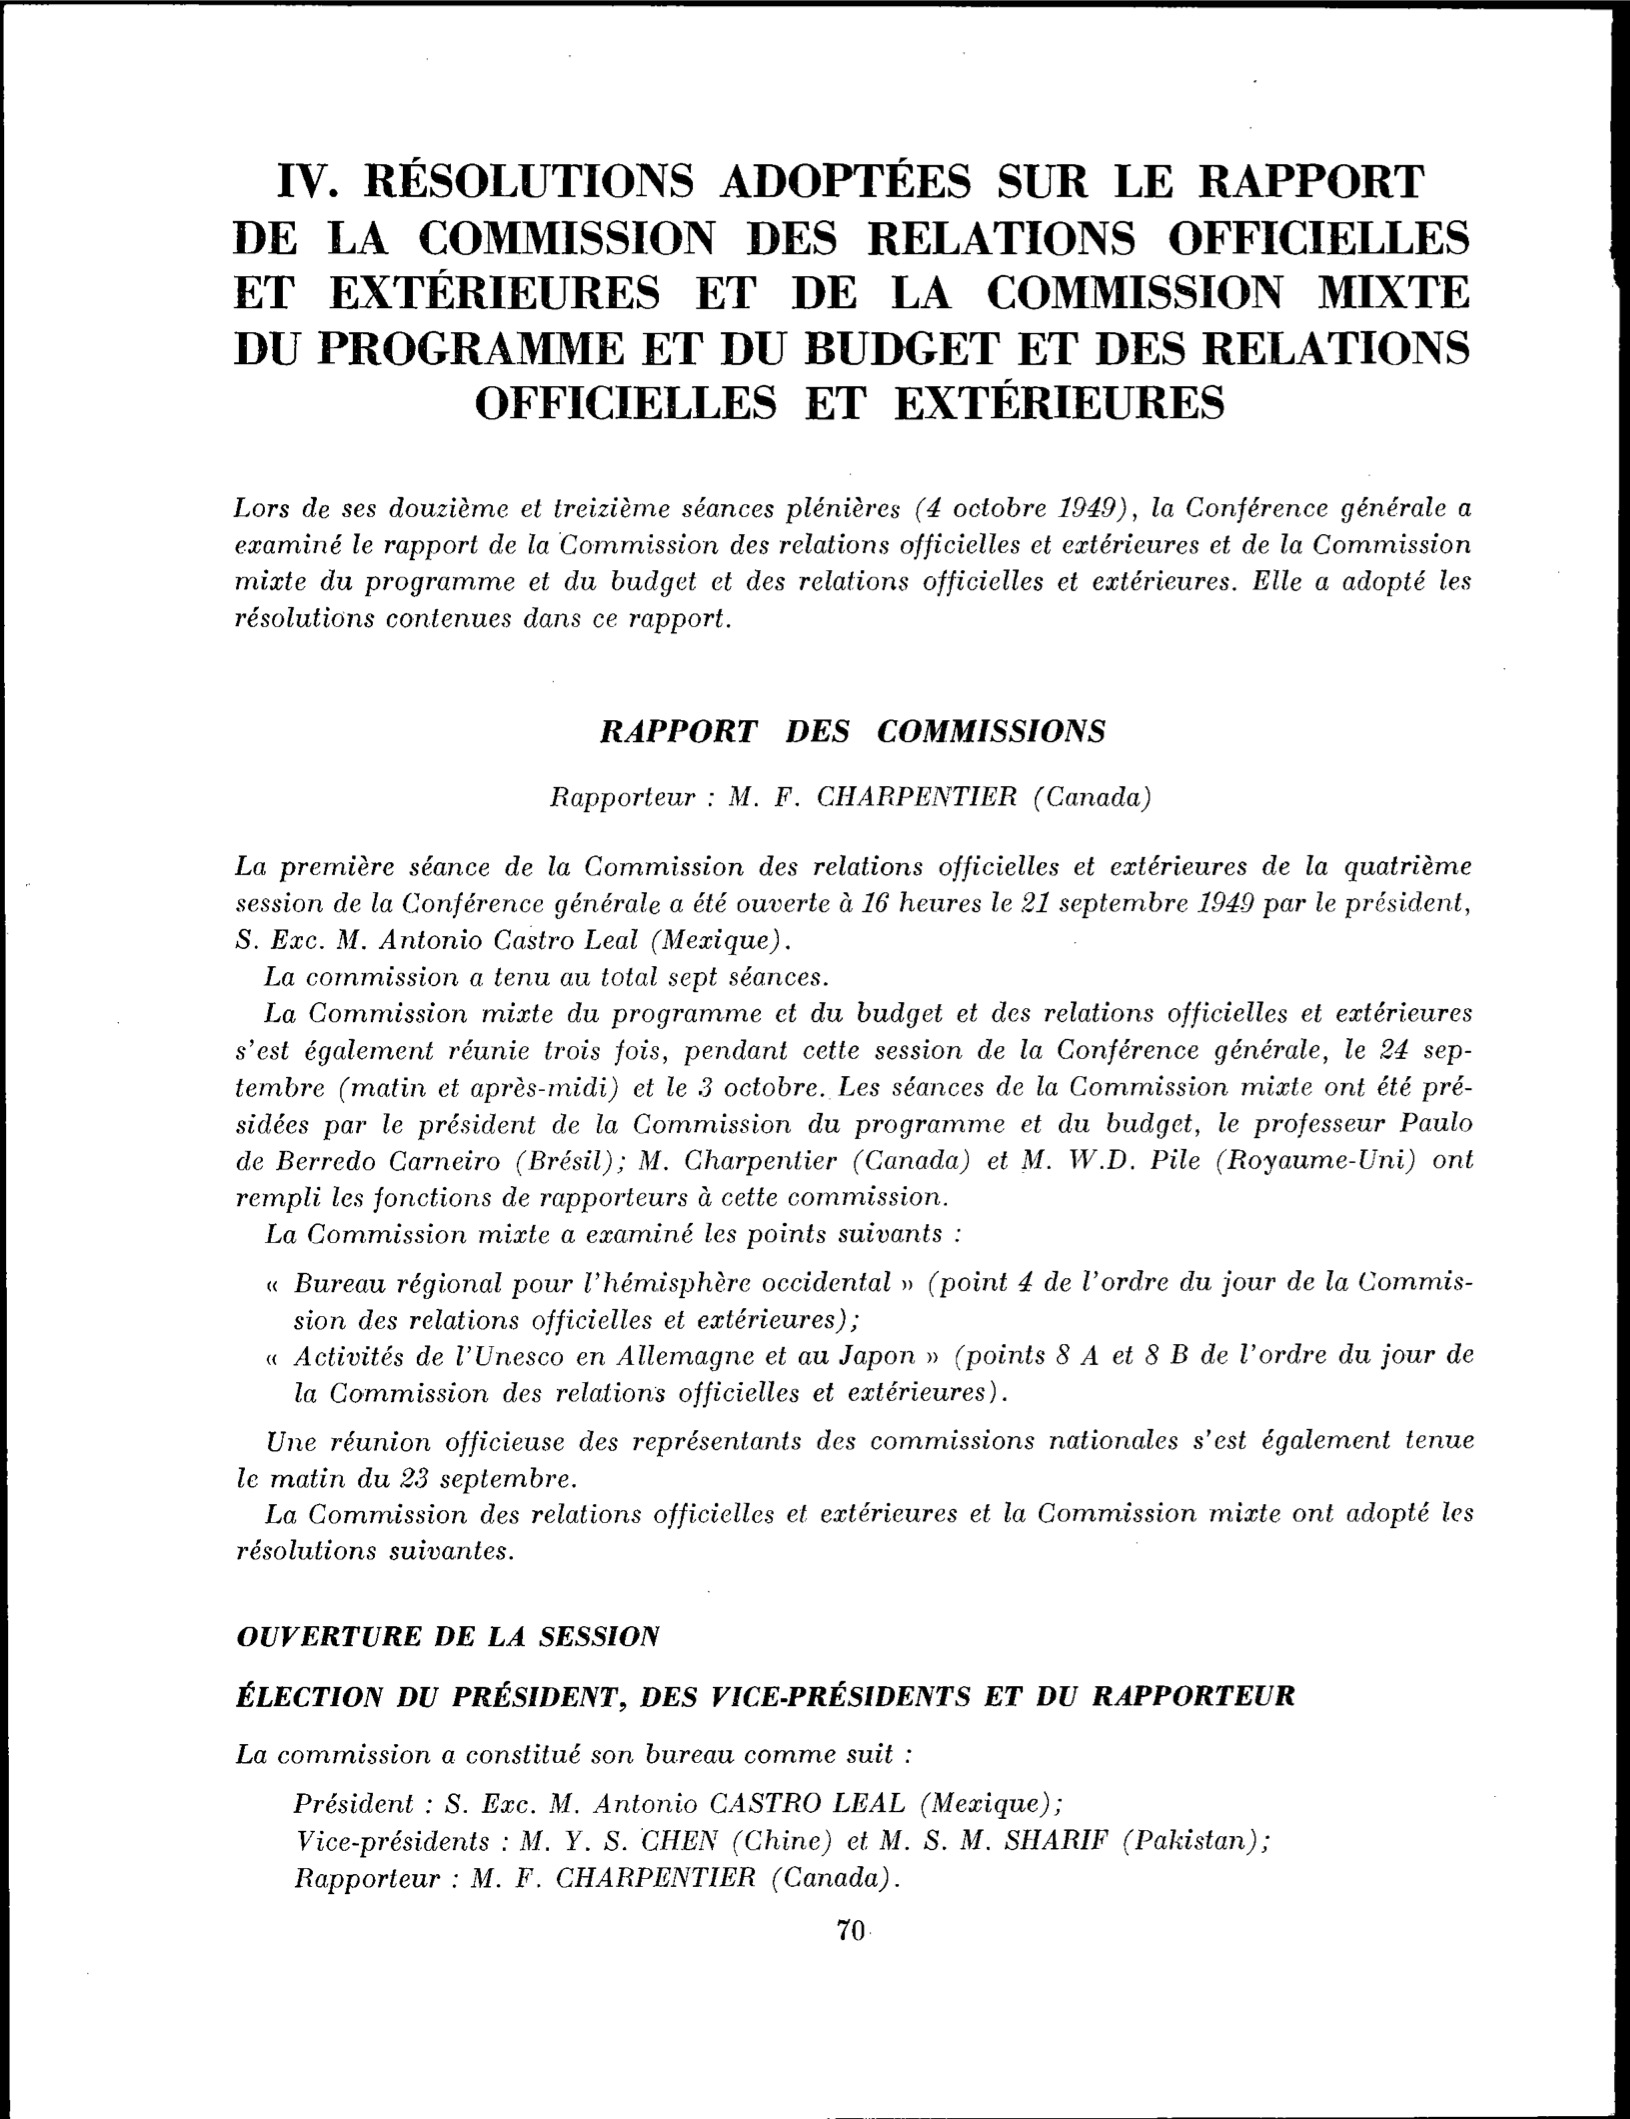MainZone-Head: (216, 147, 1484, 437), (218, 1669, 1311, 1722), (587, 702, 1124, 760), (226, 1609, 671, 1660)
MainZone-ListItem: (285, 1825, 1281, 1859), (284, 1783, 1073, 1818), (282, 1863, 905, 1899)
MainZone-Other: (538, 771, 1160, 823)
MainZone-P: (225, 994, 1485, 1213), (223, 484, 1483, 646), (222, 843, 1481, 958), (226, 1495, 1488, 1574), (236, 1336, 1488, 1414), (228, 1418, 1488, 1494), (235, 1260, 1489, 1335), (235, 1210, 1484, 1258), (225, 1735, 933, 1776), (226, 960, 837, 996)
TitlePageZone: (829, 1912, 873, 1955)
